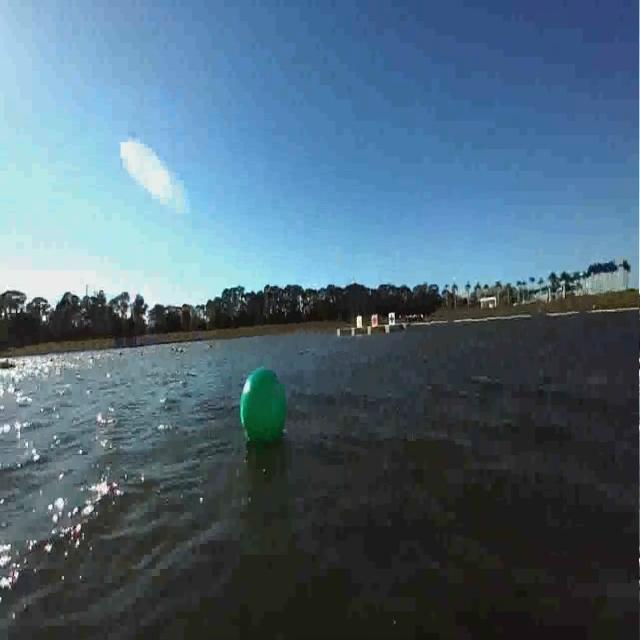green-buoy: (240, 367, 290, 446)
